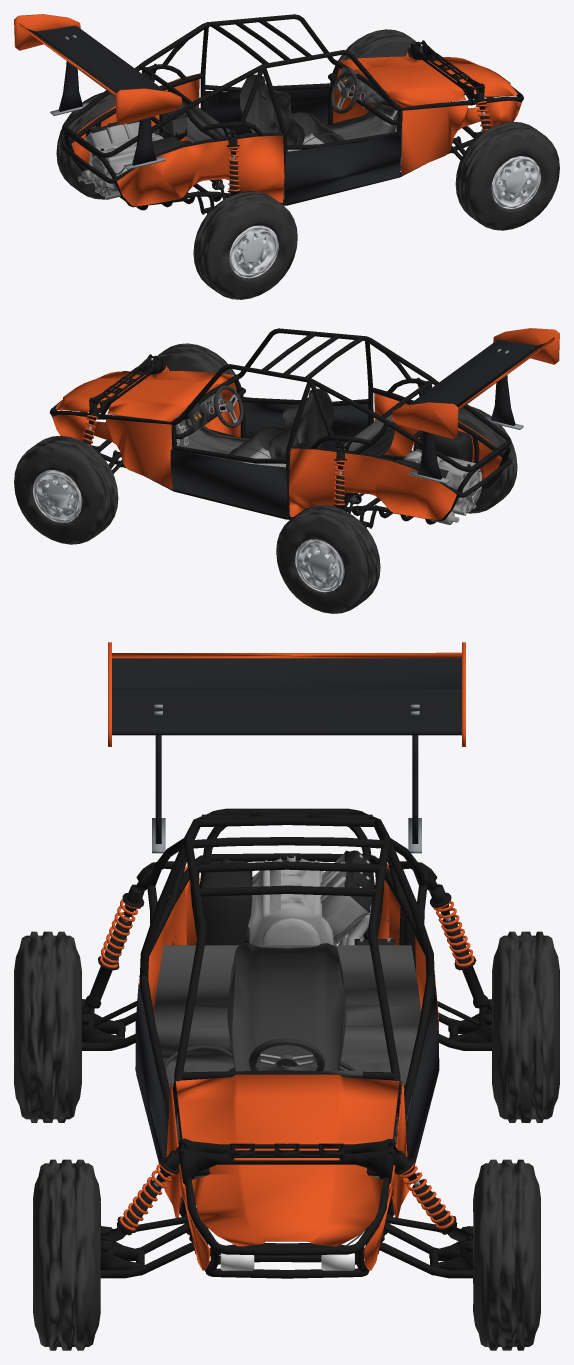
Rendered from dune_runner_race.glb.
3 renders of one model, top to bottom at view 1: azimuth 30°, elevation 25°; view 2: azimuth 150°, elevation 25°; view 3: azimuth 270°, elevation 25°, orthographic. The views are drawn at different scales.
Visible parts, largest first — view 1: body, wheel_RR, wheel_FR, wheel_RL, wheel_FL, steering_wheel; view 2: body, wheel_RL, wheel_FL, wheel_RR, wheel_FR, steering_wheel; view 3: body, wheel_RL, wheel_RR, wheel_FR, wheel_FL, steering_wheel.
Part boxes in pixels (bbox=[...]): body: bbox=[14, 14, 523, 214]; wheel_RR: bbox=[193, 191, 297, 299]; wheel_FR: bbox=[455, 121, 559, 230]; wheel_RL: bbox=[56, 92, 159, 199]; wheel_FL: bbox=[330, 29, 422, 83]; steering_wheel: bbox=[330, 71, 359, 113]; body: bbox=[49, 328, 559, 528]; wheel_RL: bbox=[276, 505, 380, 613]; wheel_FL: bbox=[14, 435, 118, 544]; wheel_RR: bbox=[413, 406, 517, 513]; wheel_FR: bbox=[151, 343, 243, 396]; steering_wheel: bbox=[214, 385, 243, 427]; body: bbox=[82, 642, 491, 1278]; wheel_RL: bbox=[492, 931, 559, 1122]; wheel_RR: bbox=[14, 931, 81, 1122]; wheel_FR: bbox=[33, 1159, 100, 1350]; wheel_FL: bbox=[473, 1159, 540, 1350]; steering_wheel: bbox=[249, 1038, 324, 1070].
Size of the model in its own units: 3.45 by 1.62 by 2.11.
